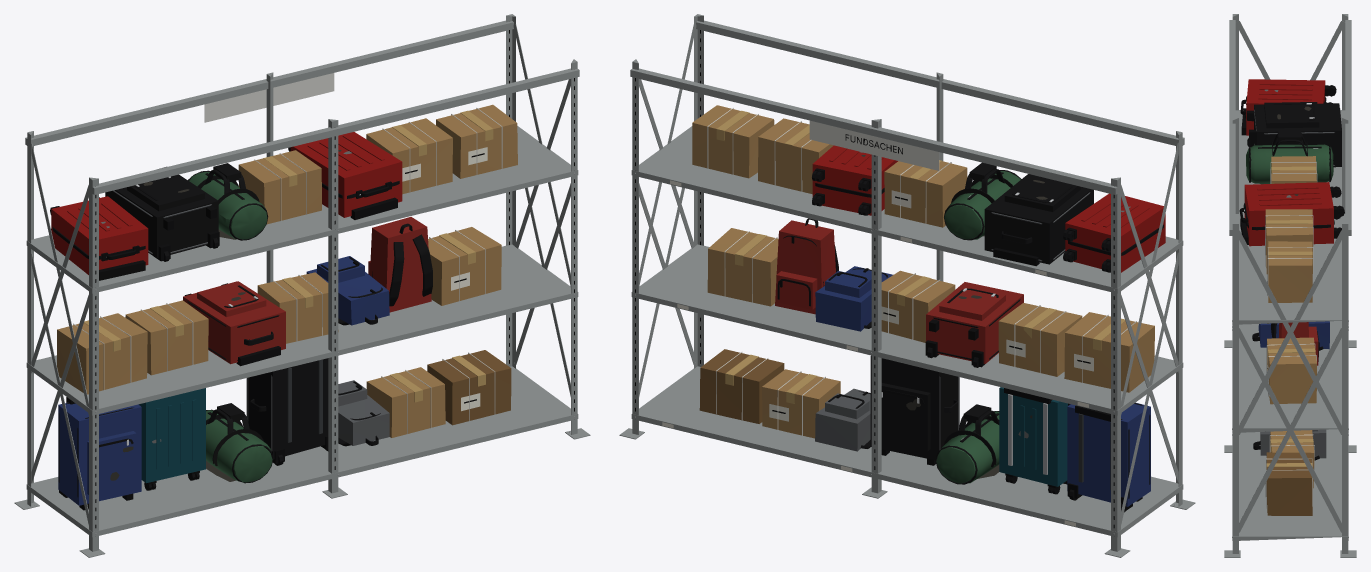
The model's file is luggage_pile@2.glb.
The picture shows the model from 3 angles, left to right: view 1: azimuth 30°, elevation 25°; view 2: azimuth 150°, elevation 25°; view 3: azimuth 270°, elevation 25°; orthographic projection. The views are drawn at different scales.
Parts seen in each view (by area): view 1: fund_0, fund_18, fund_6, fund_5, fund_24, fund_23, fund_12, fund_16, fund_22, fund_10, fund_17, fund_19 (+6 smaller); view 2: fund_0, fund_18, fund_6, fund_23, fund_5, fund_24, fund_12, fund_16, fund_22, fund_17, fund_7, fund_4 (+6 smaller); view 3: fund_0, fund_18, fund_24, fund_6, fund_22, fund_16, fund_19, fund_20, fund_10, fund_7, fund_17, fund_5 (+1 smaller).
Part boxes in pixels (box(x1,y1,x2,y2)): fund_0: box(14, 14, 590, 557); fund_18: box(57, 104, 517, 437); fund_6: box(58, 163, 432, 497); fund_5: box(58, 256, 389, 505); fund_24: box(51, 132, 402, 274); fund_23: box(183, 217, 431, 364); fund_12: box(139, 388, 205, 483); fund_16: box(189, 172, 272, 482); fund_22: box(427, 350, 511, 425); fund_10: box(59, 181, 397, 510); fund_17: box(112, 190, 389, 451); fund_19: box(84, 110, 493, 402); fund_0: box(619, 14, 1195, 557); fund_18: box(692, 105, 1154, 438); fund_6: box(805, 162, 1150, 498); fund_23: box(775, 220, 1023, 363); fund_5: box(815, 266, 1150, 506); fund_24: box(812, 145, 1165, 272); fund_12: box(999, 387, 1067, 486); fund_16: box(936, 171, 1020, 483); fund_22: box(699, 349, 784, 423); fund_17: box(815, 192, 1090, 451); fund_7: box(777, 170, 1163, 512); fund_4: box(809, 120, 939, 170); fund_0: box(1224, 14, 1356, 557); fund_18: box(1265, 156, 1316, 488); fund_24: box(1244, 79, 1333, 246); fund_6: box(1248, 102, 1341, 460); fund_22: box(1266, 452, 1312, 515); fund_16: box(1246, 144, 1333, 183); fund_19: box(1266, 166, 1316, 469); fund_20: box(1265, 162, 1317, 508); fund_10: box(1239, 85, 1339, 348); fund_7: box(1244, 85, 1344, 361); fund_17: box(1254, 108, 1341, 458); fund_5: box(1258, 321, 1329, 349).
Bounding box in the file's own units: 3.1 × 2.2 × 0.8.
